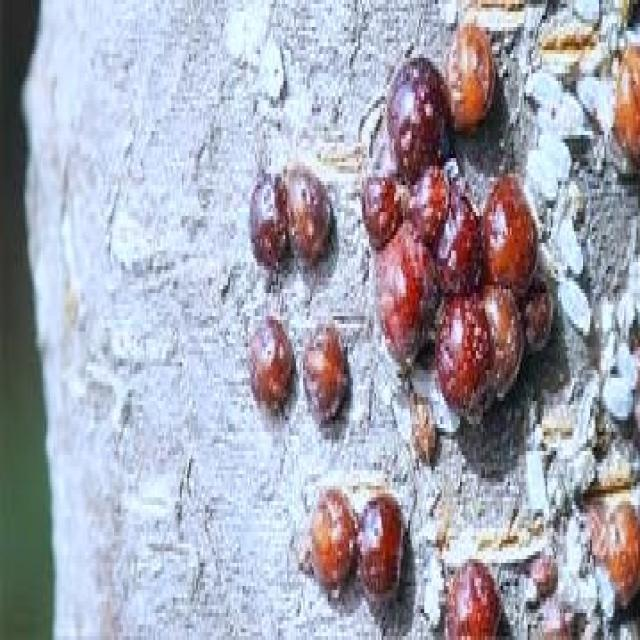BlackScale: (362, 61, 551, 416), (303, 486, 403, 602), (252, 162, 324, 270), (446, 27, 494, 127), (248, 312, 287, 424), (303, 324, 348, 420), (446, 559, 499, 636), (606, 506, 638, 602)
